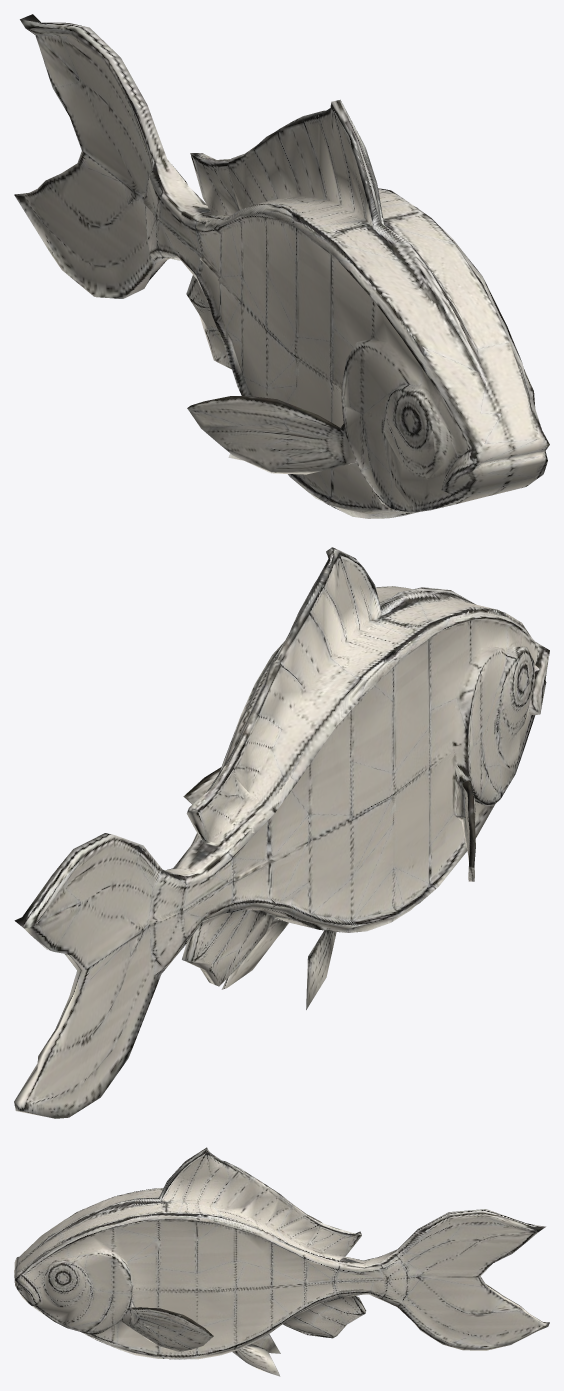
The model's file is fish-outline.glb.
3 views of the same model, one above another, from view 1: azimuth 30°, elevation 25°; view 2: azimuth 150°, elevation 25°; view 3: azimuth 270°, elevation 25° (orthographic). The views are drawn at different scales.
Visible parts, largest first — view 1: tripo_node_a1326a60-8f81-4baa-ae17-a9f296676c37; view 2: tripo_node_a1326a60-8f81-4baa-ae17-a9f296676c37; view 3: tripo_node_a1326a60-8f81-4baa-ae17-a9f296676c37.
Boxes of the visible parts, left/top/right/bottom form: tripo_node_a1326a60-8f81-4baa-ae17-a9f296676c37: left=14, top=14, right=549, bottom=518; tripo_node_a1326a60-8f81-4baa-ae17-a9f296676c37: left=14, top=547, right=549, bottom=1118; tripo_node_a1326a60-8f81-4baa-ae17-a9f296676c37: left=14, top=1147, right=549, bottom=1376.
Bounding box in the file's own units: 0.3374 × 0.446 × 1.
Materials: 1 (1 with a texture image).
